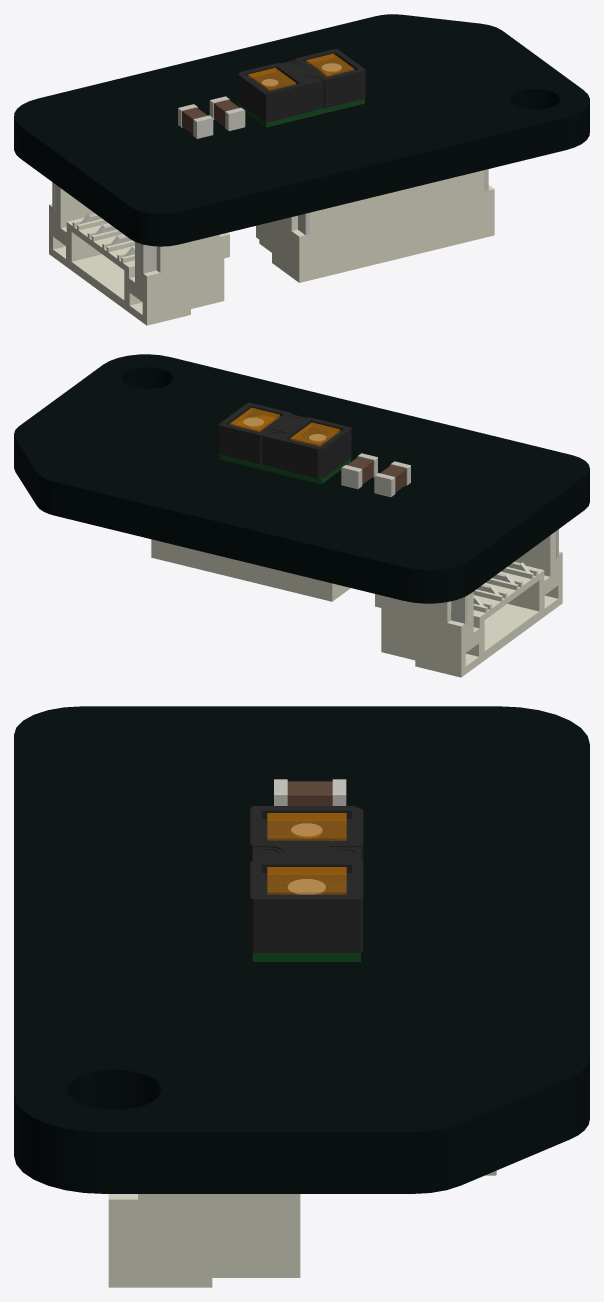
The model's file is tof-module.glb.
The picture shows the model from 3 angles, top to bottom: view 1: azimuth 30°, elevation 25°; view 2: azimuth 150°, elevation 25°; view 3: azimuth 270°, elevation 25°; orthographic projection. The views are drawn at different scales.
Parts seen in each view (by area): view 1: =>[0:1:1:18], =>[0:1:1:7], =>[0:1:1:11], =>[0:1:1:5], =>[0:1:1:3] (×2); view 2: =>[0:1:1:18], =>[0:1:1:11], =>[0:1:1:5], =>[0:1:1:7], =>[0:1:1:3] (×2); view 3: =>[0:1:1:18], =>[0:1:1:5], =>[0:1:1:7], =>[0:1:1:3].
Boxes of the visible parts, x1,y1,x2,y2 form: =>[0:1:1:18]: (14,14,589,246); =>[0:1:1:7]: (256,169,494,282); =>[0:1:1:11]: (49,182,229,325); =>[0:1:1:5]: (237,49,365,127); =>[0:1:1:3] (×2): (178,96,245,138); =>[0:1:1:18]: (14,354,589,603); =>[0:1:1:11]: (375,529,562,677); =>[0:1:1:5]: (218,402,351,484); =>[0:1:1:7]: (151,539,350,601); =>[0:1:1:3] (×2): (341,453,410,497); =>[0:1:1:18]: (14,706,589,1193); =>[0:1:1:5]: (250,806,363,961); =>[0:1:1:7]: (108,1194,300,1287); =>[0:1:1:3]: (274,779,346,805).
Bounding box in the file's own units: 0.0223 × 0.00748 × 0.0128.
